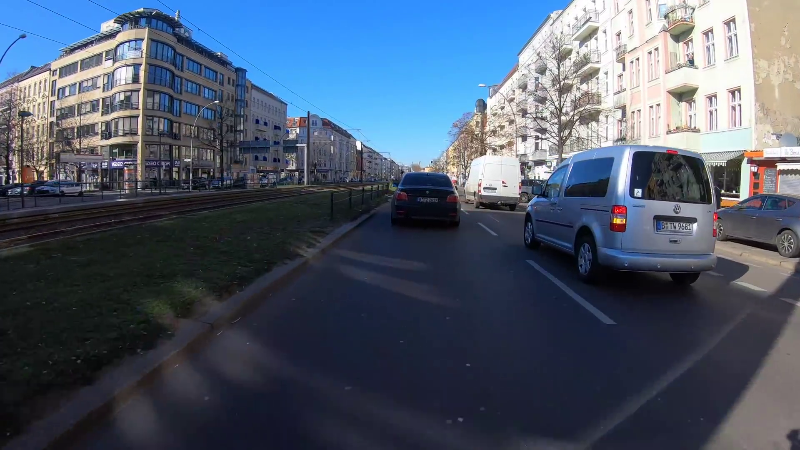Plate: (654, 218, 695, 233), (416, 195, 440, 203), (484, 188, 499, 194)
